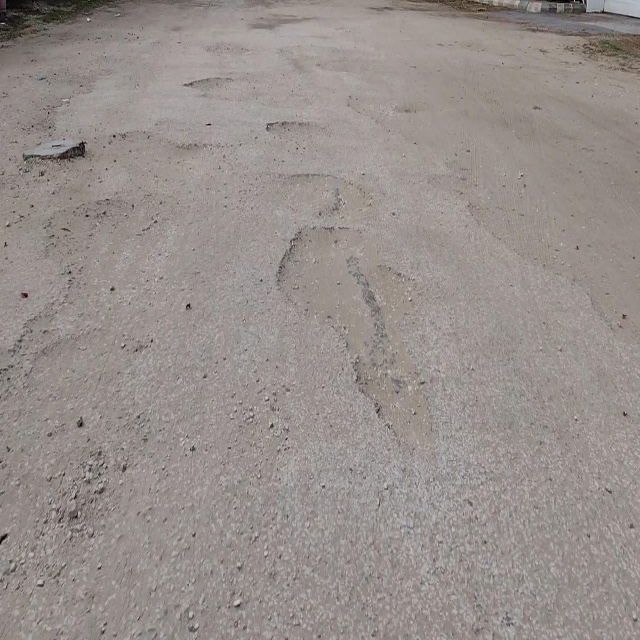pothole: (274, 225, 436, 466), (265, 118, 329, 142)
